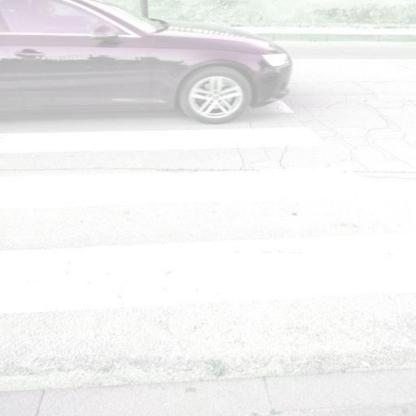crosswalk: (2, 124, 385, 216)
